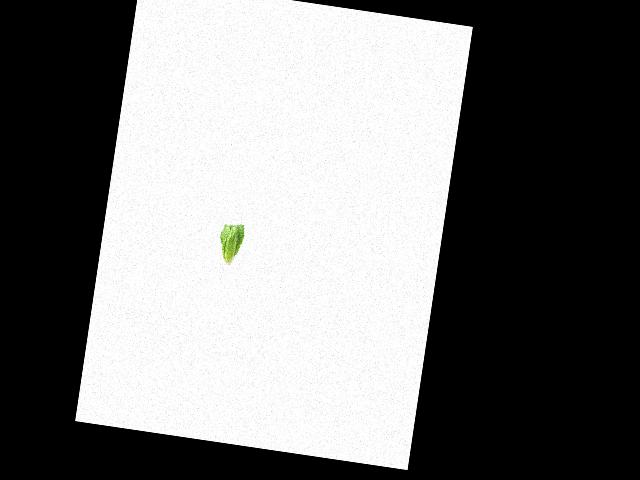lettuce: (212, 219, 249, 268)
